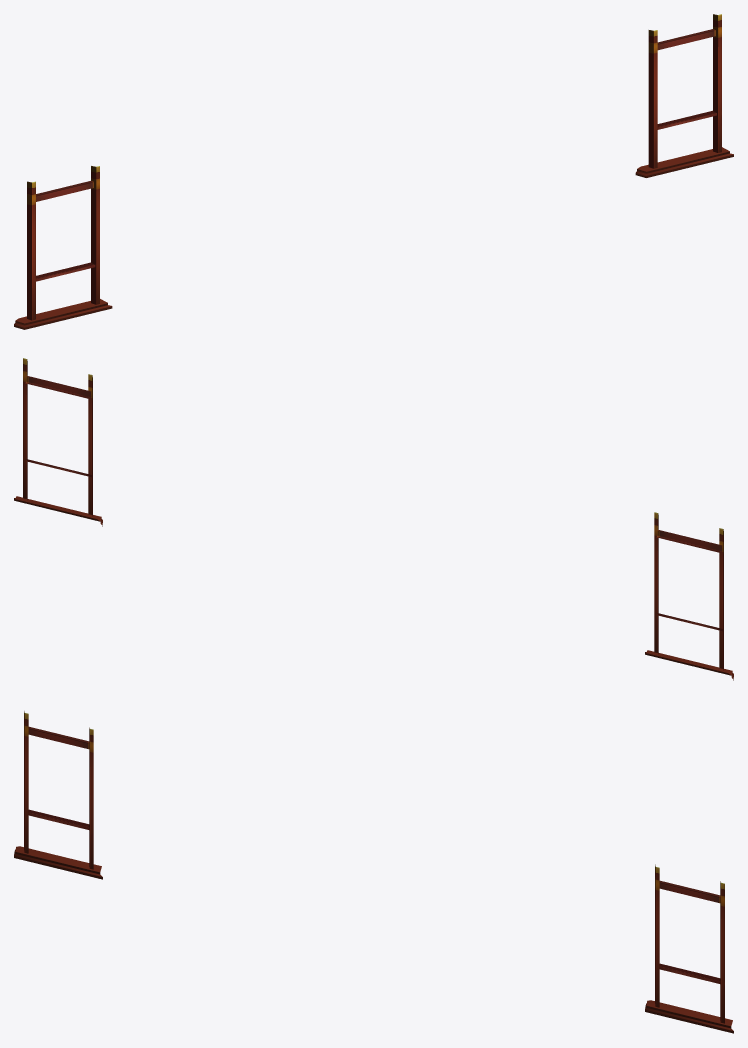
File: fbx_jisitading_qiang_08.FBX
3 renders of one model, top to bottom at view 1: azimuth 30°, elevation 25°; view 2: azimuth 150°, elevation 25°; view 3: azimuth 330°, elevation 25°, orthographic.
Parts seen in each view (by area): view 1: fbx_jisitading_qiang_08; view 2: fbx_jisitading_qiang_08; view 3: fbx_jisitading_qiang_08.
Part boxes in pixels (<box>): fbx_jisitading_qiang_08: <box>14,14,733,329</box>; fbx_jisitading_qiang_08: <box>14,358,733,680</box>; fbx_jisitading_qiang_08: <box>14,711,733,1033</box>.
Size of the model in its own units: 1198 by 231 by 16.73.
